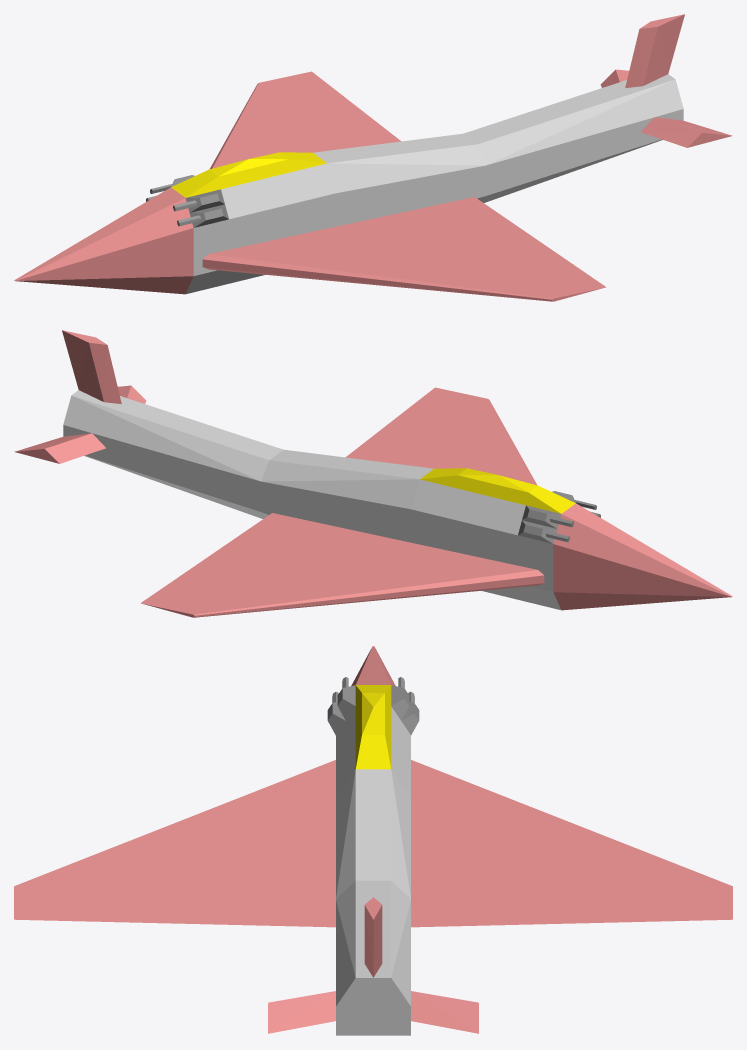
The model's file is SP Arrow.fbx.
3 views of the same model, one above another, from view 1: azimuth 30°, elevation 25°; view 2: azimuth 150°, elevation 25°; view 3: azimuth 270°, elevation 25° (orthographic). The views are drawn at different scales.
Parts seen in each view (by area): view 1: SP Arrow; view 2: SP Arrow; view 3: SP Arrow.
Part boxes in pixels (box(x1,y1,x2,y2)): SP Arrow: box(14, 14, 732, 301); SP Arrow: box(14, 330, 732, 617); SP Arrow: box(14, 646, 732, 1035).
Bounding box in the file's own units: 910 × 195 × 688.
